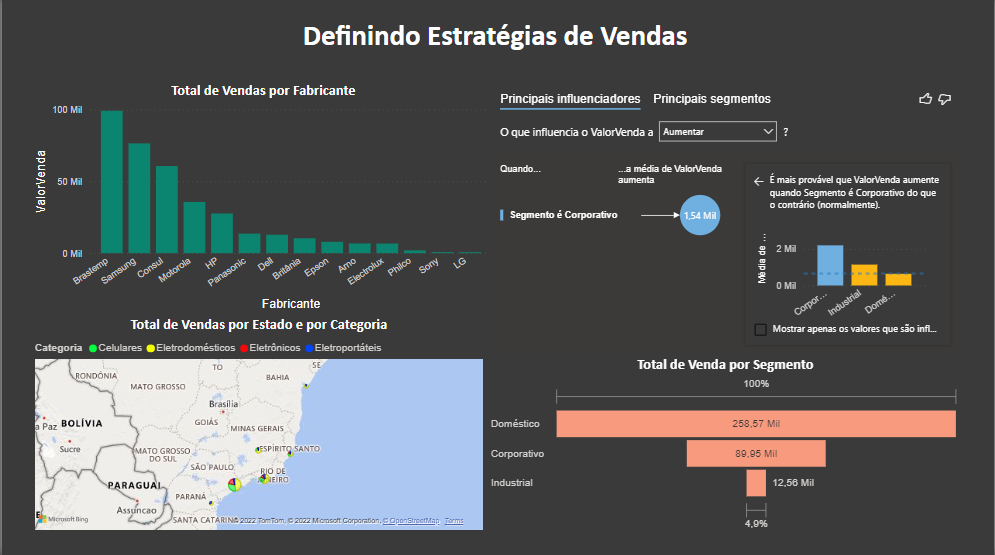

The page's visual inventory and layout, read from the dashboard file:
{"tool":"powerbi","page":{"name":"Página 1","canvas":[1280,720],"ordinal":0},"visuals":[{"type":"clusteredColumnChart","title":"Total de Vendas por Fabricante","fields":{"Category":["DIM_PRODUTO.Fabricante"],"Y":["Sum(TB_FATO.ValorVenda)"]},"box":[37.2,139,589.1,276.6],"z":0},{"type":"map","title":"Total de Vendas por Estado e por Categoria","fields":{"Category":["DIM_LOJA.Estado"],"Series":["DIM_PRODUTO.Categoria"],"Size":["Sum(TB_FATO.ValorVenda)"]},"box":[37.2,437.7,600.1,282.2],"z":1000},{"type":"funnel","title":"Total de Venda por Segmento","fields":{"Category":["DIM_PRODUTO.Segmento"],"Y":["Sum(TB_FATO.ValorVenda)"]},"box":[640,472.1,601.5,247.7],"z":2000},{"type":"keyDriversVisual","fields":{"Target":["TB_FATO.ValorVenda"],"ExplainBy":["DIM_PRODUTO.Segmento"]},"box":[631.7,118.4,609.7,353.7],"z":3000},{"type":"textbox","box":[357.8,20.6,557.4,88.1],"z":4000}]}

Visuals, with their boxes in screenshot pixels (x1, y1, x2, y2), scaled from the page's 1280x720 canvas onto the 995x555 screenshot:
"Total de Vendas por Fabricante" clusteredColumnChart: [29, 107, 487, 320]
"Total de Vendas por Estado e por Categoria" map: [29, 337, 495, 554]
"Total de Venda por Segmento" funnel: [498, 364, 965, 554]
keyDriversVisual - TB_FATO.ValorVenda x DIM_PRODUTO.Segmento: [491, 91, 965, 364]
textbox: [278, 16, 711, 84]
